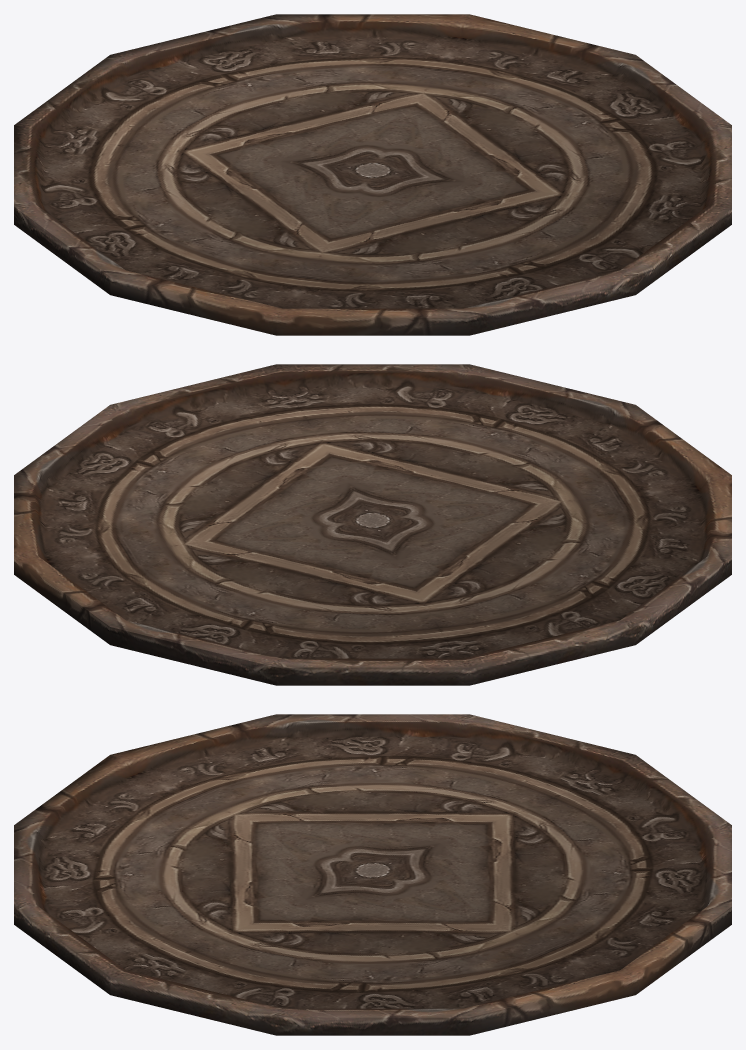
The model's file is first battle_01_floor_04.FBX.
The picture shows the model from 3 angles, top to bottom: view 1: azimuth 30°, elevation 25°; view 2: azimuth 150°, elevation 25°; view 3: azimuth 270°, elevation 25°; orthographic projection.
Parts seen in each view (by area): view 1: F4; view 2: F4; view 3: F4.
Part boxes in pixels (x1,y1,x2,y2): F4: (14, 14, 731, 335); F4: (14, 364, 731, 685); F4: (14, 714, 731, 1035).
Size of the model in its own units: 26.97 by 0.7523 by 26.97.
